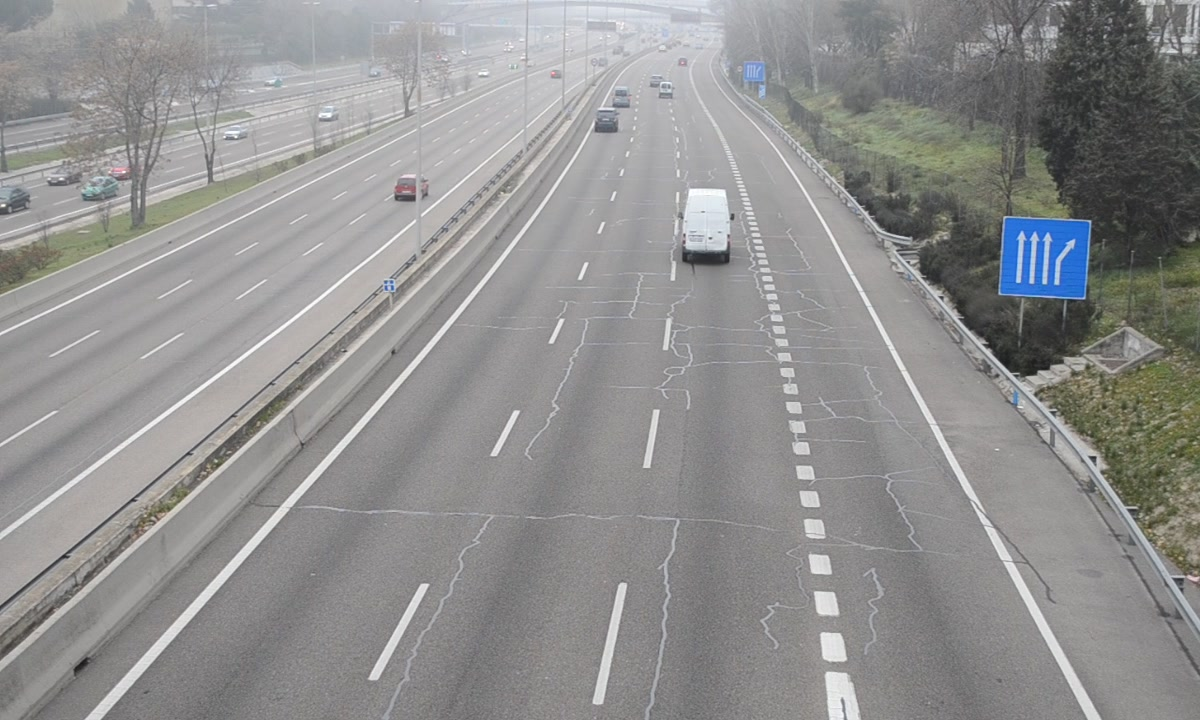car: (593, 106, 619, 131)
van: (681, 188, 733, 264)
